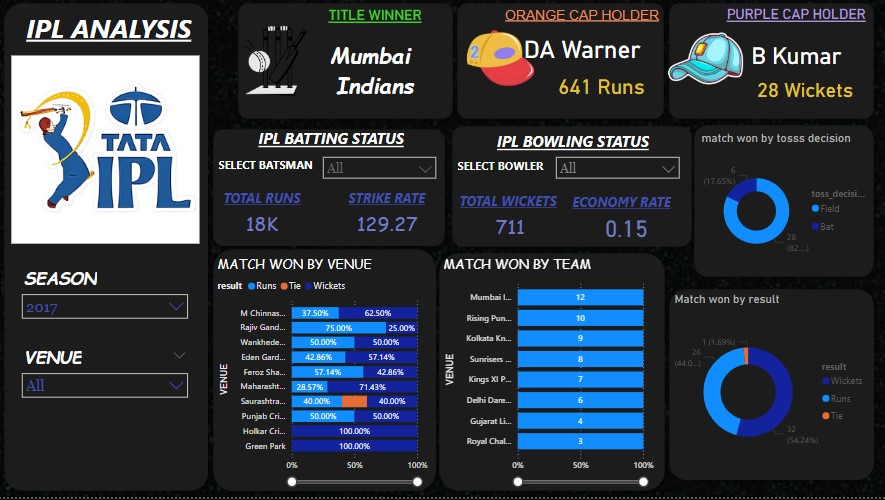

The page's visual inventory and layout, read from the dashboard file:
{"tool":"powerbi","page":{"name":"Page 2","canvas":[1280,720],"ordinal":0},"visuals":[{"type":"shape","box":[301.2,353.8,338.8,366.2],"z":0},{"type":"shape","box":[957.1,411.4,312.9,292.9],"z":1000},{"type":"donutChart","title":"Match won by result","fields":{"Y":["matches (3).id"],"Category":["matches (3).result"]},"box":[968.6,424.3,290,267.1],"z":2000},{"type":"shape","box":[337,0,326.9,184.3],"z":3000},{"type":"shape","box":[0,0,311.8,720],"z":4000},{"type":"textbox","box":[7.1,14.1,304.7,64.7],"z":5000},{"type":"image","box":[337,7.2,125.3,169.9],"z":6000},{"type":"image","box":[7.1,78.8,294.1,281.2],"z":7000},{"type":"slicer","fields":{"Values":["matches (3).date"]},"box":[24.7,383.5,258.8,101.2],"z":8000},{"type":"slicer","fields":{"Values":["matches (3).venue.1.1"]},"box":[24.7,496.5,258.8,107.1],"z":9000},{"type":"card","title":"TITLE WINNER","fields":{"Values":["matches (3).FINAL WINNER"]},"box":[433.4,14.4,218.9,148.3],"z":10000},{"type":"shape","box":[652.3,0,315.4,184.3],"z":11000},{"type":"shape","box":[957.6,0,312.5,184.3],"z":12000},{"type":"image","box":[663.8,15.8,119.5,144],"z":13000},{"type":"card","title":"ORANGE CAP HOLDER","fields":{"Values":["deliveries.batter"]},"box":[724,15.1,233.5,94.1],"z":14000},{"type":"card","title":"ORANGE CAP HOLDER","fields":{"Values":["deliveries.BATTERRUNSS"]},"box":[781.1,92.4,176.4,70.6],"z":15000},{"type":"image","box":[957.5,0,122.6,176.4],"z":16000},{"type":"card","title":"PURPLE CAP HOLDER","fields":{"Values":["deliveries.bowler"]},"box":[1041.5,13.4,216.7,114.2],"z":17000},{"type":"card","title":"PURPLE CAP HOLDER","fields":{"Values":["deliveries.bowlerwicket"]},"box":[1065,100.8,193.2,62.2],"z":18000},{"type":"shape","box":[301.2,181.2,351.2,186.2],"z":19000},{"type":"textbox","box":[320,185,320,43.8],"z":20000},{"type":"shape","box":[645,177.5,362.5,191.2],"z":21000},{"type":"textbox","box":[675,188.8,305,37.5],"z":22000},{"type":"textbox","box":[312,226,156,34],"z":23000},{"type":"slicer","fields":{"Values":["deliveries.batter"]},"box":[457.5,220,182.5,56.2],"z":24000},{"type":"textbox","box":[656,228,154,32],"z":25000},{"type":"slicer","fields":{"Values":["deliveries.bowler"]},"box":[793.8,220,197.5,52.5],"z":26000},{"type":"textbox","box":[320,272.5,137.5,35],"z":27000},{"type":"textbox","box":[500,272.5,133.8,36.2],"z":28000},{"type":"textbox","box":[660,276.2,162.5,37.5],"z":29000},{"type":"textbox","box":[822.5,277.5,171.2,35],"z":30000},{"type":"card","fields":{"Values":["deliveries.batsman_runs"]},"box":[326.2,307.5,107.5,60],"z":31000},{"type":"card","fields":{"Values":["deliveries.is_wicket"]},"box":[681.2,308.8,112.5,45],"z":32000},{"type":"card","fields":{"Values":["deliveries.STRIKE RATE"]},"box":[488.8,301.2,145,51.2],"z":33000},{"type":"shape","box":[993.8,176.2,276.2,236.2],"z":34000},{"type":"hundredPercentStackedBarChart","title":"MATCH WON BY VENUE ","fields":{"Category":["matches (3).venue.1.1"],"Series":["matches (3).result"],"Y":["matches (3).id"]},"box":[311.4,370,312.9,338.6],"z":35000},{"type":"donutChart","title":"match won by tosss decision","fields":{"Category":["matches (3).toss_decision"],"Y":["matches (3).Match won byy tossdecision"]},"box":[1007.5,192.5,251.2,211.2],"z":36000},{"type":"shape","box":[625.7,360,342.9,360],"z":37000},{"type":"hundredPercentStackedBarChart","title":"MATCH WON BY TEAM ","fields":{"Y":["matches (3).winner"],"Category":["matches (3).winner"]},"box":[637.1,370,312.9,338.6],"z":38000}]}

Visuals, with their boxes in screenshot pixels (x1, y1, x2, y2), scaled from the page's 1280x720 canvas onto the 885x500 screenshot:
shape: x1=208, y1=246, x2=442, y2=499
shape: x1=662, y1=286, x2=878, y2=489
"Match won by result" donutChart: x1=670, y1=295, x2=870, y2=480
shape: x1=233, y1=0, x2=459, y2=128
shape: x1=0, y1=0, x2=216, y2=499
textbox: x1=5, y1=10, x2=216, y2=55
image: x1=233, y1=5, x2=320, y2=123
image: x1=5, y1=55, x2=208, y2=250
slicer - matches (3).date: x1=17, y1=266, x2=196, y2=337
slicer - matches (3).venue.1.1: x1=17, y1=345, x2=196, y2=419
"TITLE WINNER" card: x1=300, y1=10, x2=451, y2=113
shape: x1=451, y1=0, x2=669, y2=128
shape: x1=662, y1=0, x2=878, y2=128
image: x1=459, y1=11, x2=542, y2=111
"ORANGE CAP HOLDER" card: x1=501, y1=10, x2=662, y2=76
"ORANGE CAP HOLDER" card: x1=540, y1=64, x2=662, y2=113
image: x1=662, y1=0, x2=747, y2=122
"PURPLE CAP HOLDER" card: x1=720, y1=9, x2=870, y2=89
"PURPLE CAP HOLDER" card: x1=736, y1=70, x2=870, y2=113
shape: x1=208, y1=126, x2=451, y2=255
textbox: x1=221, y1=128, x2=442, y2=159
shape: x1=446, y1=123, x2=697, y2=256
textbox: x1=467, y1=131, x2=678, y2=157
textbox: x1=216, y1=157, x2=324, y2=181
slicer - deliveries.batter: x1=316, y1=153, x2=442, y2=192
textbox: x1=454, y1=158, x2=560, y2=181
slicer - deliveries.bowler: x1=549, y1=153, x2=685, y2=189
textbox: x1=221, y1=189, x2=316, y2=214
textbox: x1=346, y1=189, x2=438, y2=214
textbox: x1=456, y1=192, x2=569, y2=218
textbox: x1=569, y1=193, x2=687, y2=217
card - deliveries.batsman_runs: x1=226, y1=214, x2=300, y2=255
card - deliveries.is_wicket: x1=471, y1=214, x2=549, y2=246
card - deliveries.STRIKE RATE: x1=338, y1=209, x2=438, y2=245
shape: x1=687, y1=122, x2=878, y2=286
"MATCH WON BY VENUE " hundredPercentStackedBarChart: x1=215, y1=257, x2=432, y2=492
"match won by tosss decision" donutChart: x1=697, y1=134, x2=870, y2=280
shape: x1=433, y1=250, x2=670, y2=499
"MATCH WON BY TEAM " hundredPercentStackedBarChart: x1=440, y1=257, x2=657, y2=492
